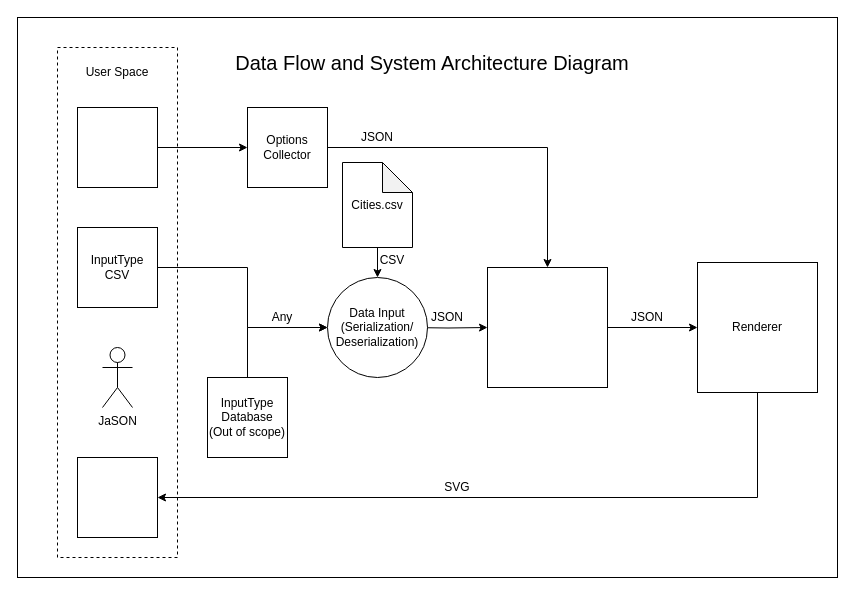
This 855x595 diagram has some shape labels left out. The box of each missing label's shape, as (x1, y1, x2, y2) in pixels:
Display: (76, 456, 158, 538)
HTML Options: (76, 106, 158, 188)
Processing: (486, 266, 608, 388)
